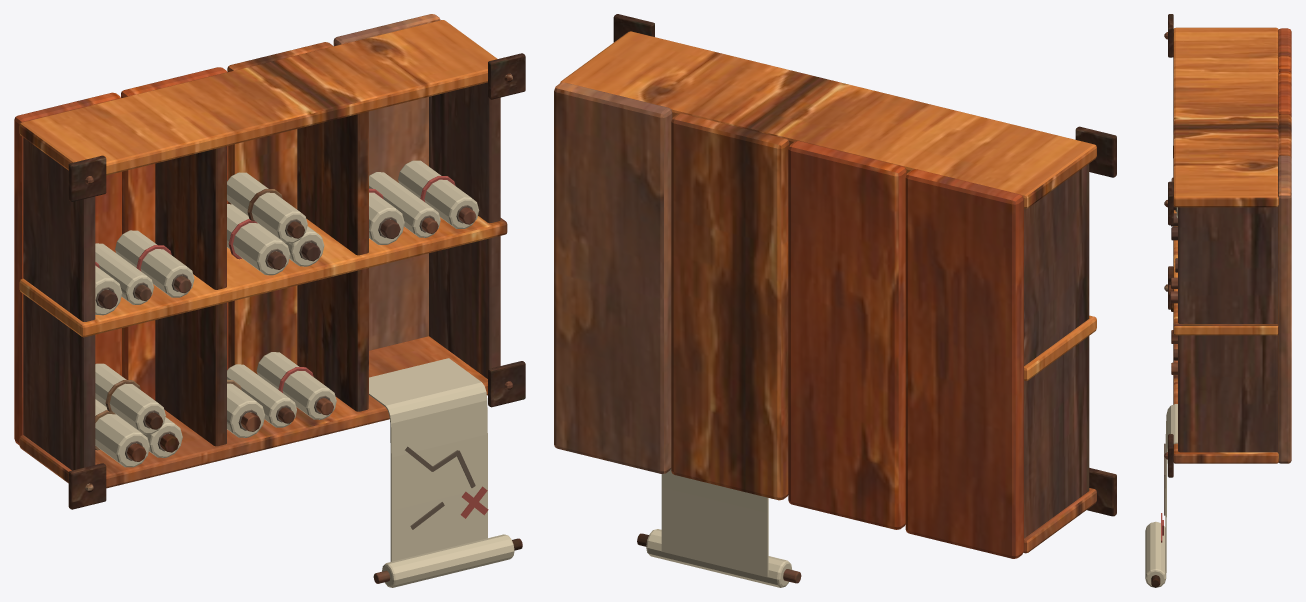
The model's file is op_map_rack.glb.
3 renders of one model, left to right at view 1: azimuth 30°, elevation 25°; view 2: azimuth 150°, elevation 25°; view 3: azimuth 270°, elevation 25°, orthographic. The views are drawn at different scales.
Parts seen in each view (by area): view 1: model; view 2: model; view 3: model.
Boxes of the visible parts, <box> form: model: <box>14,14,525,587</box>; model: <box>554,14,1116,587</box>; model: <box>1145,14,1291,587</box>.
Size of the model in its own units: 0.8974 by 0.927 by 0.3055.
Materials: 13 (10 with a texture image).
